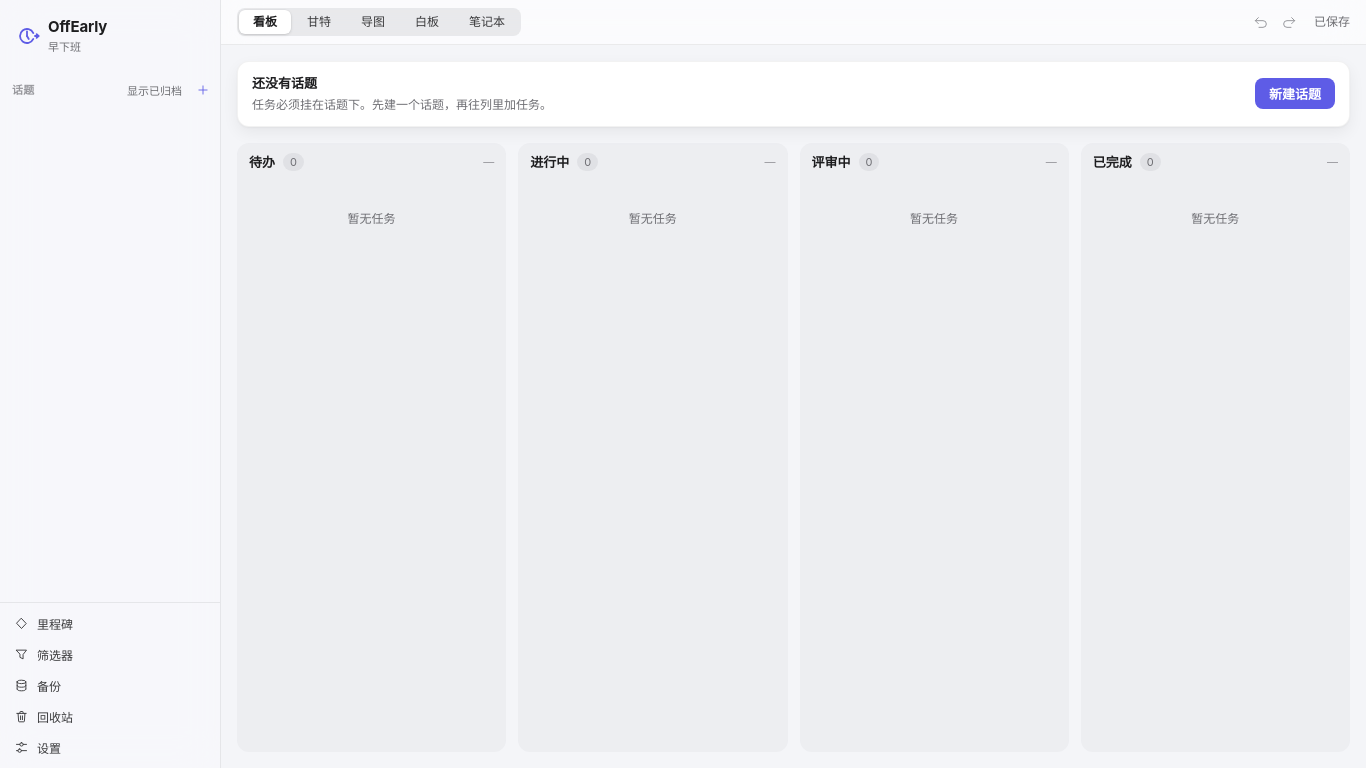
Scenario: T52：空库引导与顶栏撤销 › 空库引导条的「新建话题」能建出话题，随后列内新建入口出现
The image size is (1366, 768).
expect the element with test id "board-guide" is shown: met, box [237,61,1350,126]
Click the button with test id "board-create-topic" at (1295, 94), box [1255,78,1335,109]
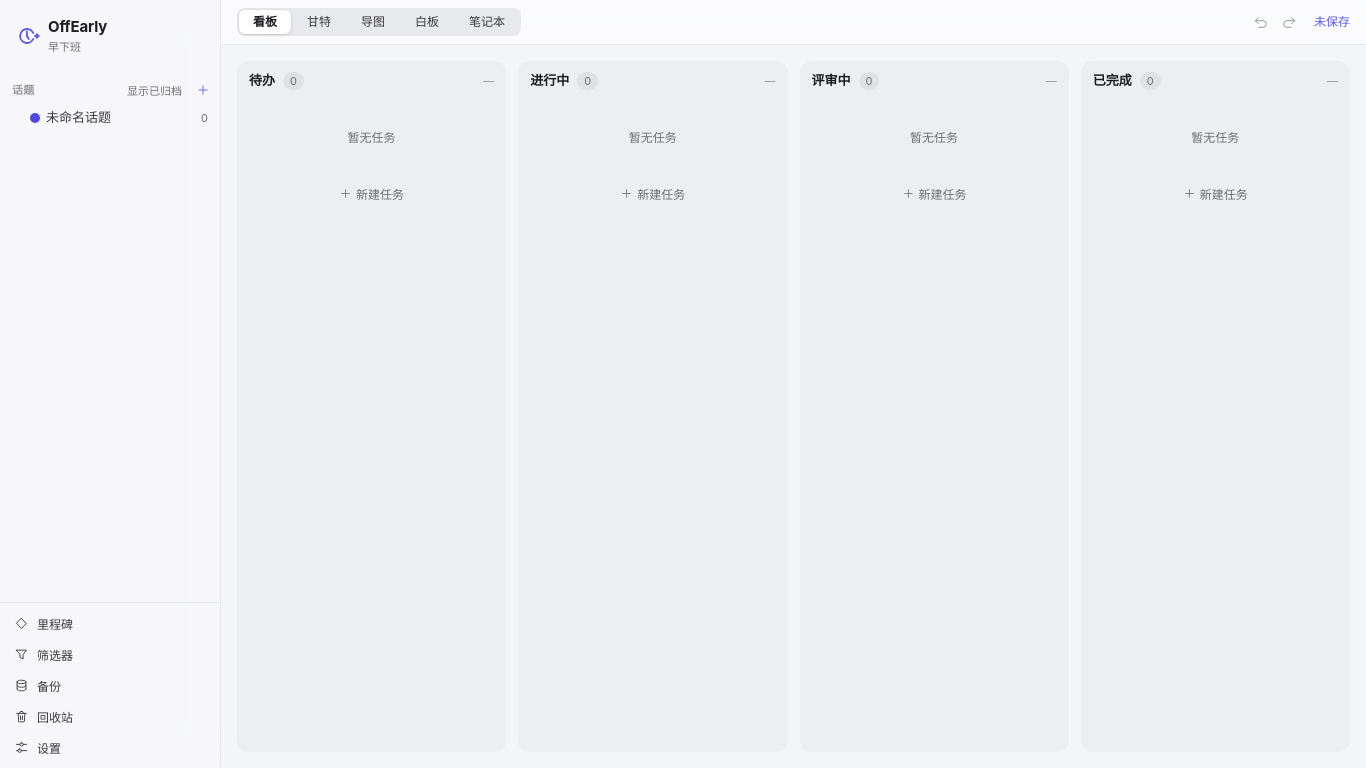
expect the element with test id "board-guide" is gone: met
expect the button with test id "board-add-task-todo" is shown: met, box [245,178,498,208]
expect the element with test id "topic-tree" shows "未命名话题": met, box [46,109,111,125]
Press s
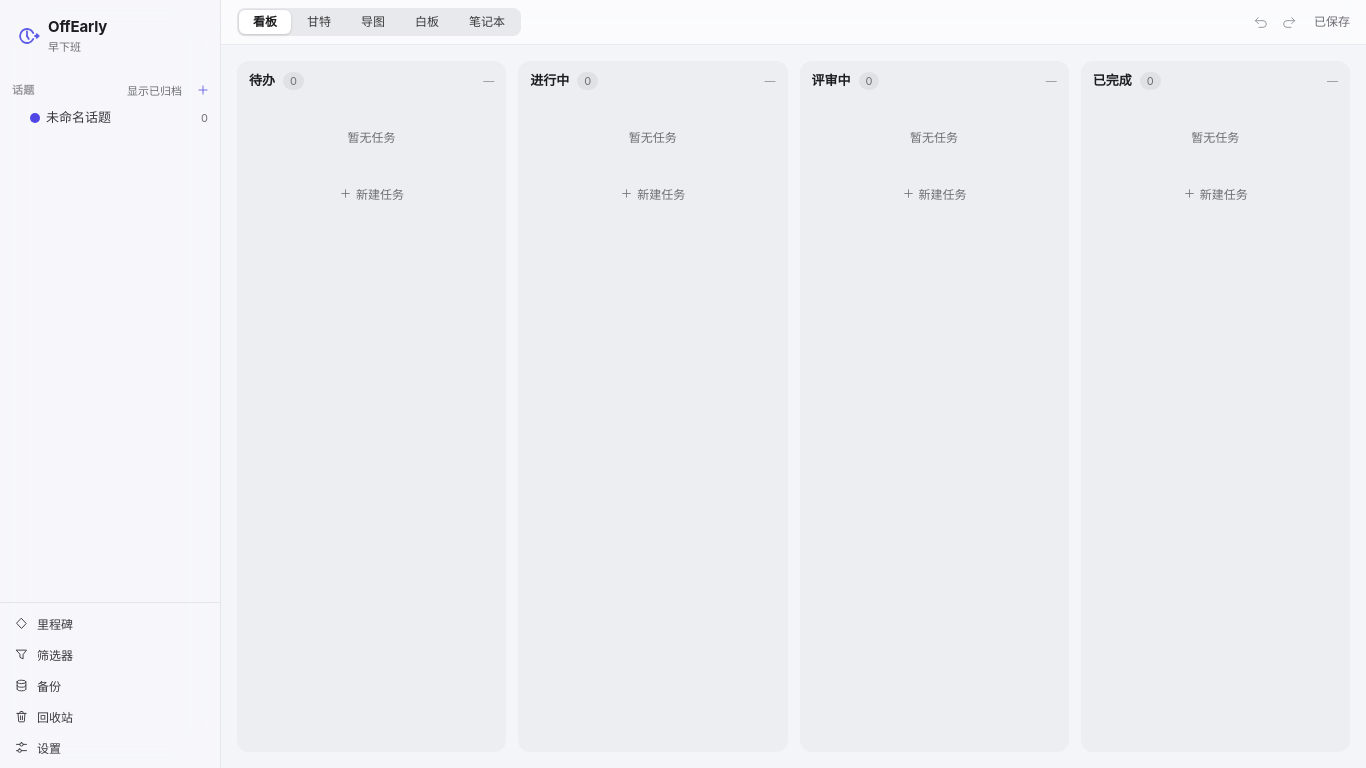
expect the text "已保存" is shown: met, box [1314,12,1350,32]
